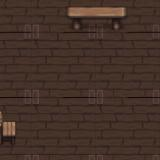Obstacle: (62, 0, 133, 32), (0, 98, 31, 159)
